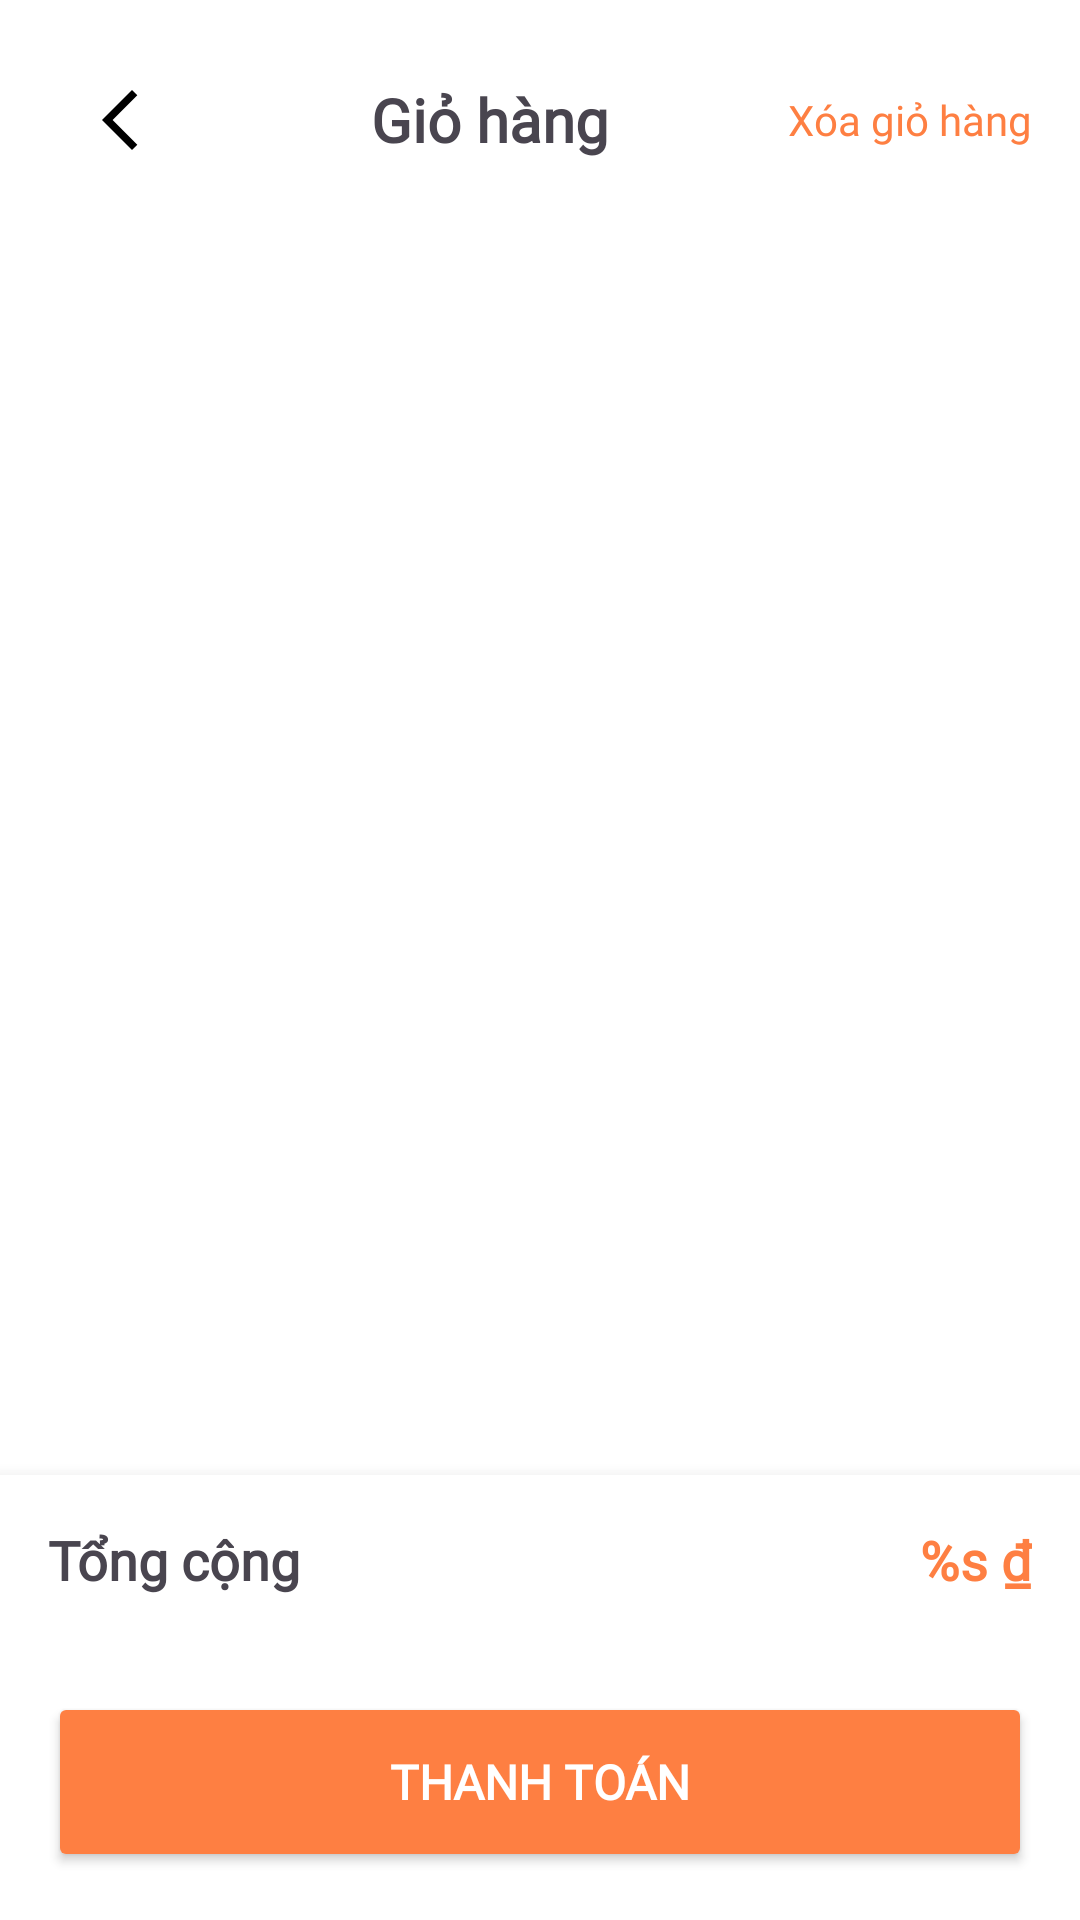

Screen size 1080×1920. Icon name, then its center in pixels as (x,y):
Quay lại: (119,120)
